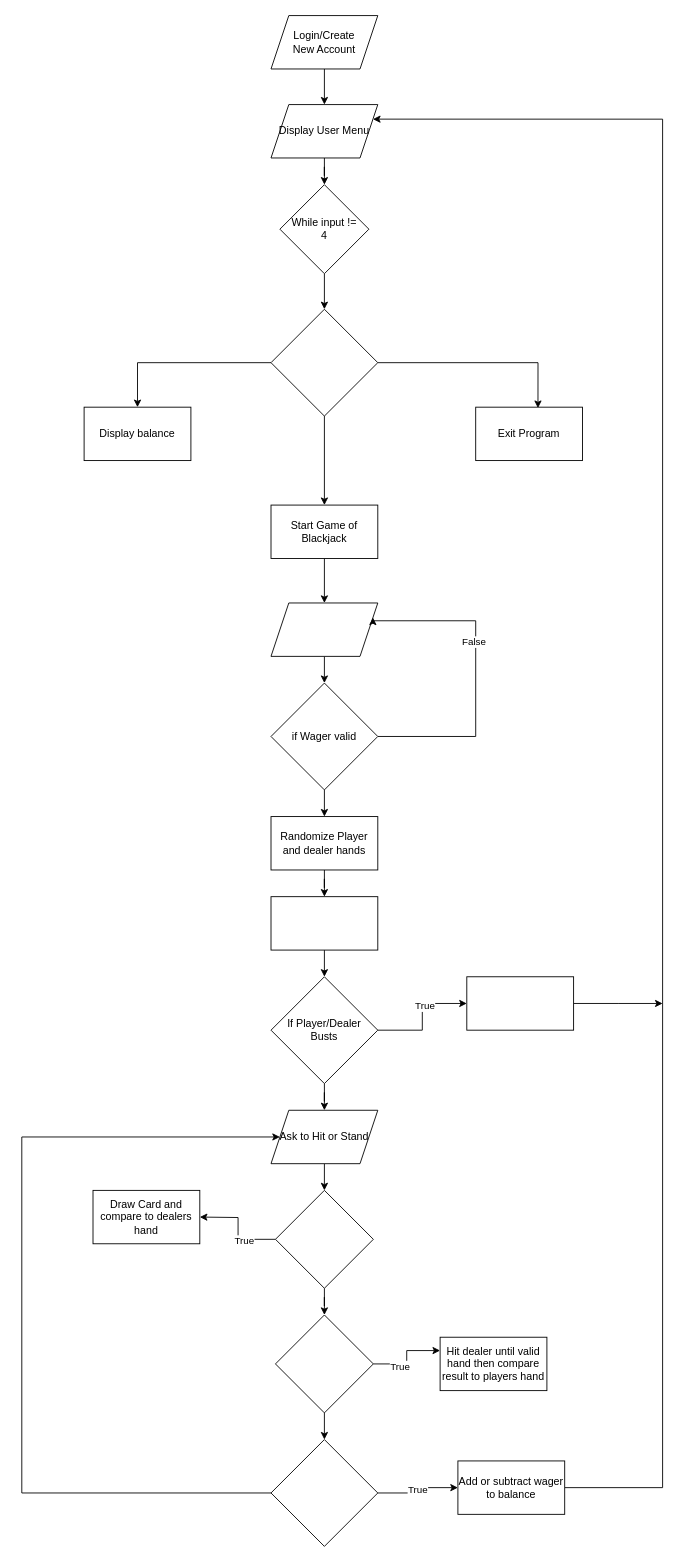
Image size: 685x1562. Some labels were removed from this diagram. The shapes that lost their labels are listed below. From the top down, each one's centre as x and y in pixels, then its label:
At [324,362]: "Switch Users Input On Menu".
At [324,629]: "Input Wager".
At [324,923]: "Display Player and Dealer Hands".
At [520,1003]: "Add or subtract wager from balance".
At [324,1238]: "If Hit".
At [324,1363]: "If Stand".
At [324,1492]: "Player or dealer bust".
